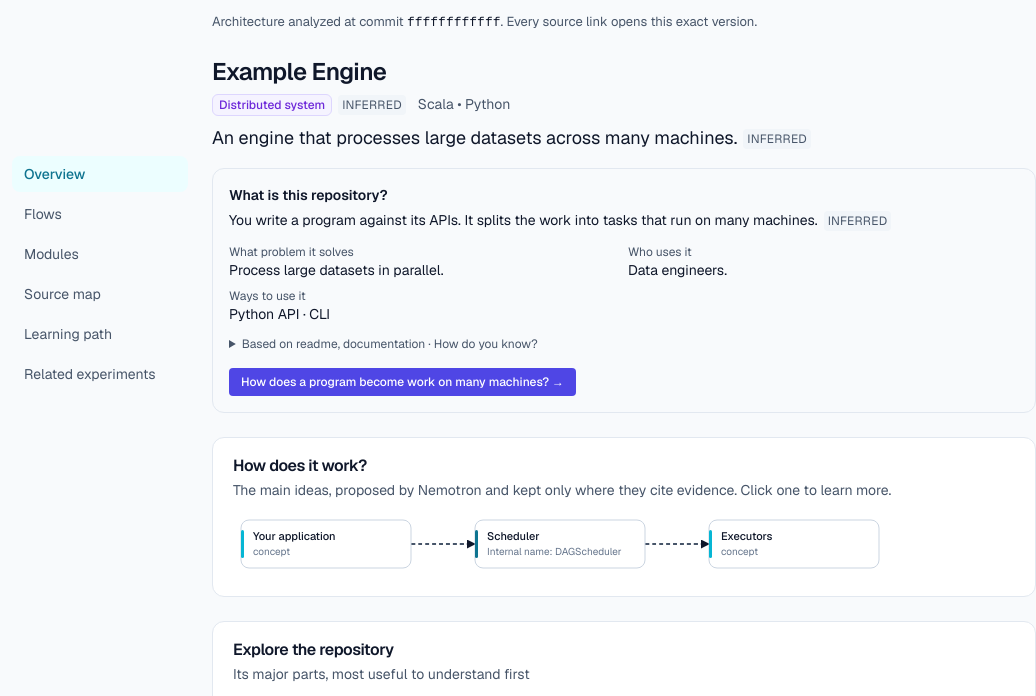
it: experiments › appear in the learning path only when one is available
# The learning path is its own perspective now, one click from the overview.
Step 1. Click the button with test id "perspective-learning" → click(100, 334), box [12,316,188,352]
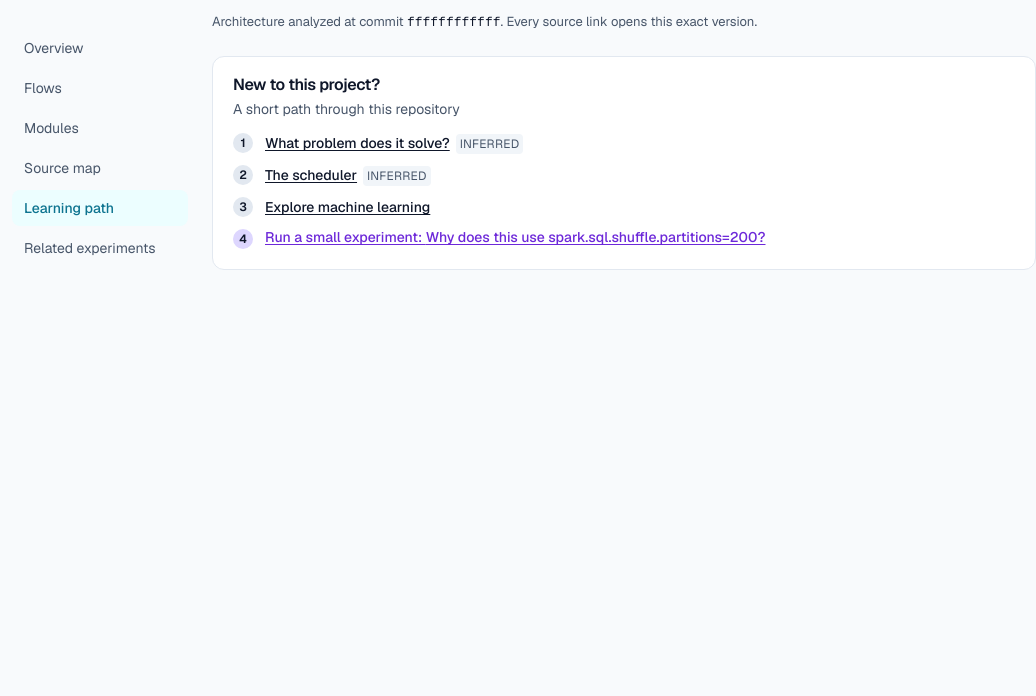
Now the link with test id "learning-experiment" shows "spark.sql.shuffle.partitions=200", box [265,227,766,249]
